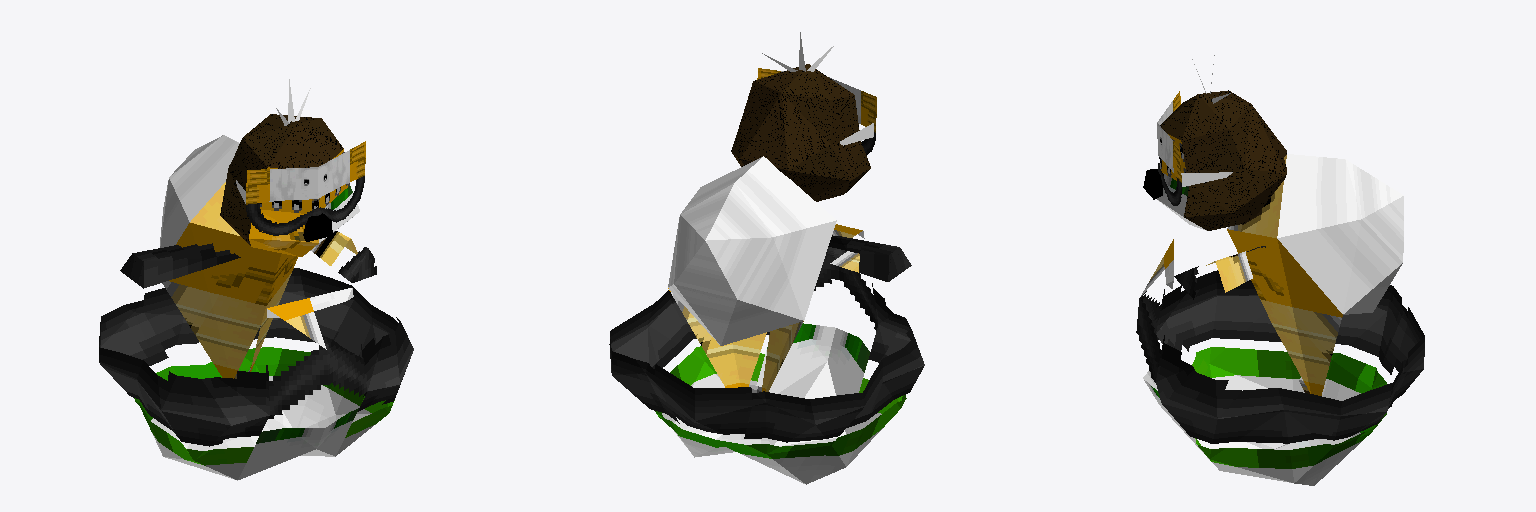
The picture shows the model from 3 angles: view 1: azimuth 30°, elevation 25°; view 2: azimuth 150°, elevation 25°; view 3: azimuth 270°, elevation 25°; orthographic projection.
Visible parts, largest first — view 1: all_root, cloud, body, head, arm_r; view 2: all_root, cloud, body, head, arm_r; view 3: all_root, cloud, body, head.
Part boxes in pixels (x1,y1,x2,y2): all_root: (99,88,413,479); cloud: (99,268,399,480); body: (162,135,376,378); head: (220,79,365,256); arm_r: (120,244,240,287); all_root: (609,53,924,483); cloud: (610,224,924,484); body: (668,156,835,392); head: (732,32,876,196); arm_r: (826,236,899,281); all_root: (1139,90,1424,484); cloud: (1136,239,1424,485); body: (1174,154,1403,395); head: (1147,55,1286,230).
Bounding box in the file's own units: 10.01 × 15.12 × 9.89.
2 materials, 2 textured.